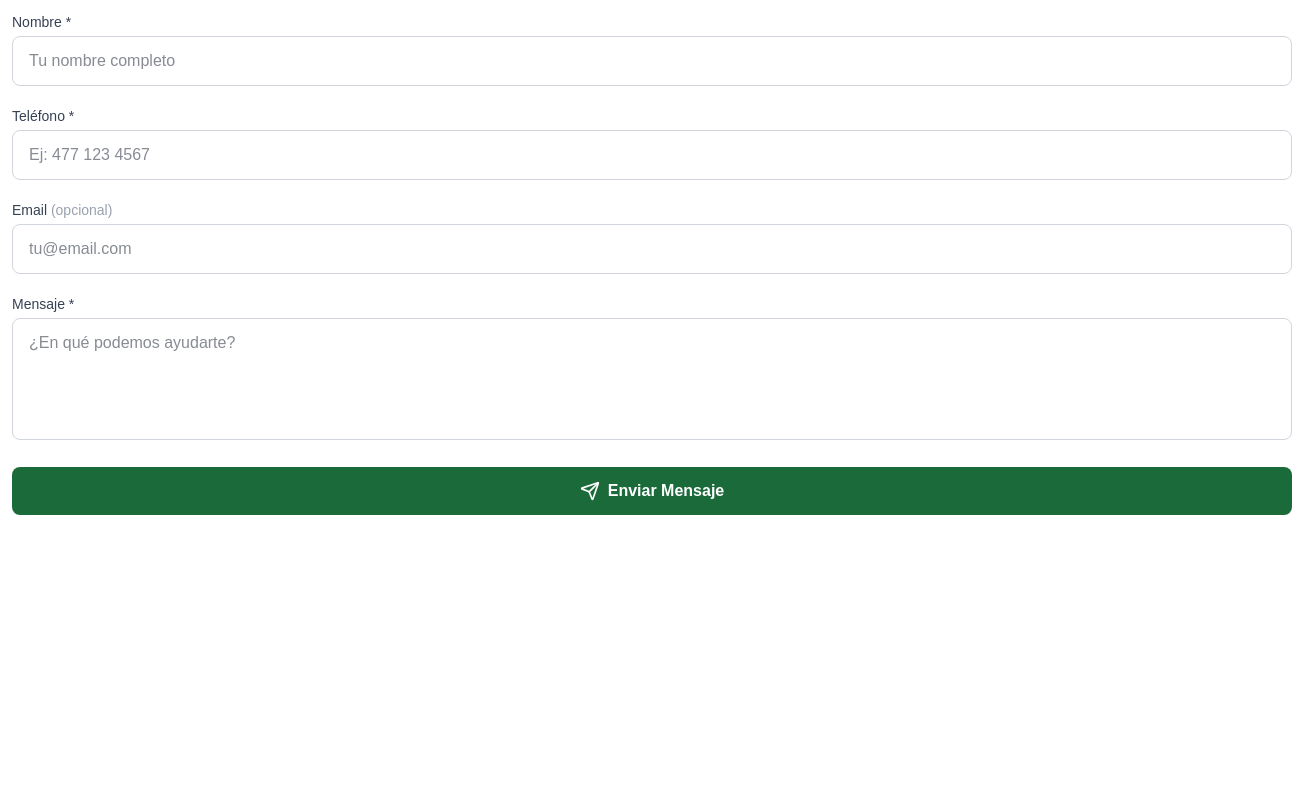
Test: ContactForm › shows network error message when fetch throws
The image size is (1304, 812).
Step 1. Type "Juan" into the field labelled "Nombre *" → (652, 61), box [12,36,1292,86]
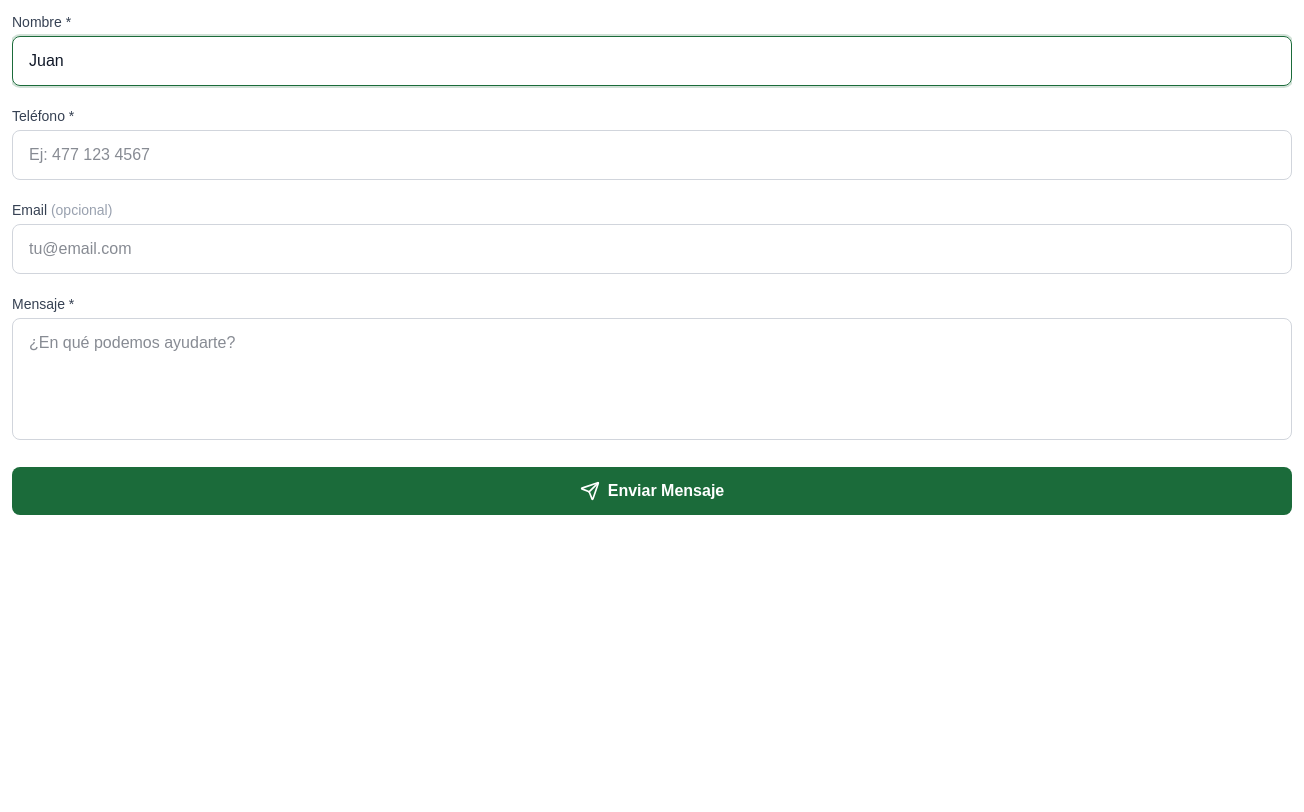
Step 2. Type "4771234567" into the field labelled "Teléfono *" → (652, 155), box [12,130,1292,180]
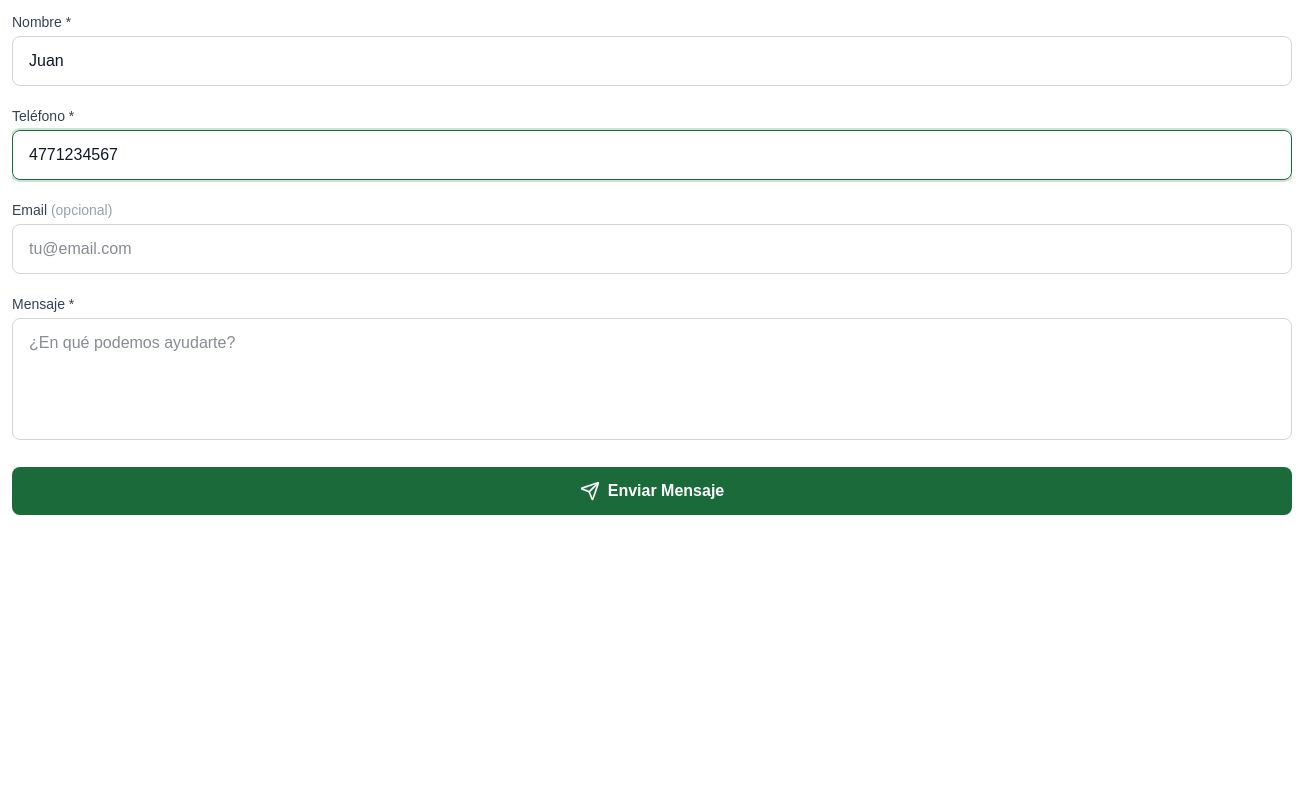
Step 3. Type "Información del centro por favor" into the text box labelled "Mensaje *" → (652, 379), box [12,318,1292,440]
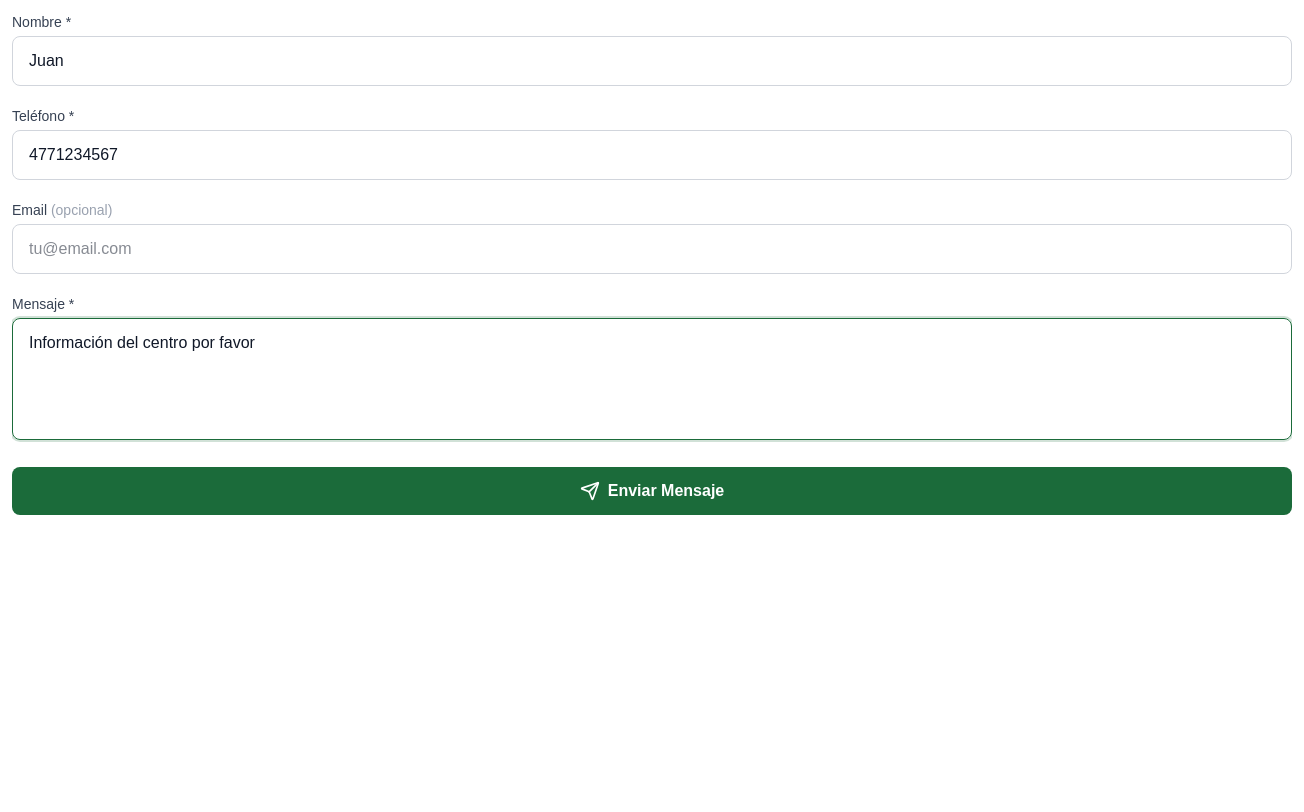
Step 4. Click the button "Enviar Mensaje" → (652, 491), box [12,467,1292,515]
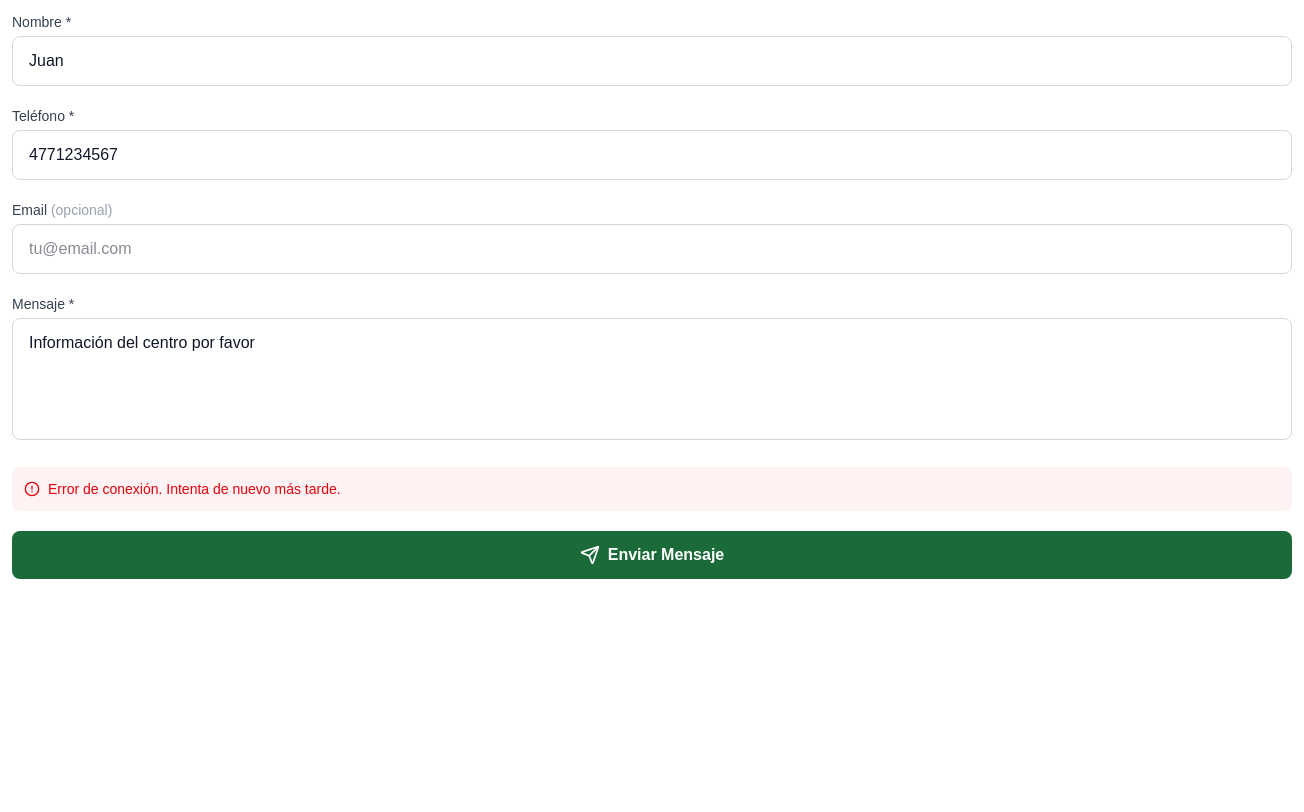
Now the text "Error de conexión. Intenta de nuevo más tarde." is shown, box [12,467,1292,511]
